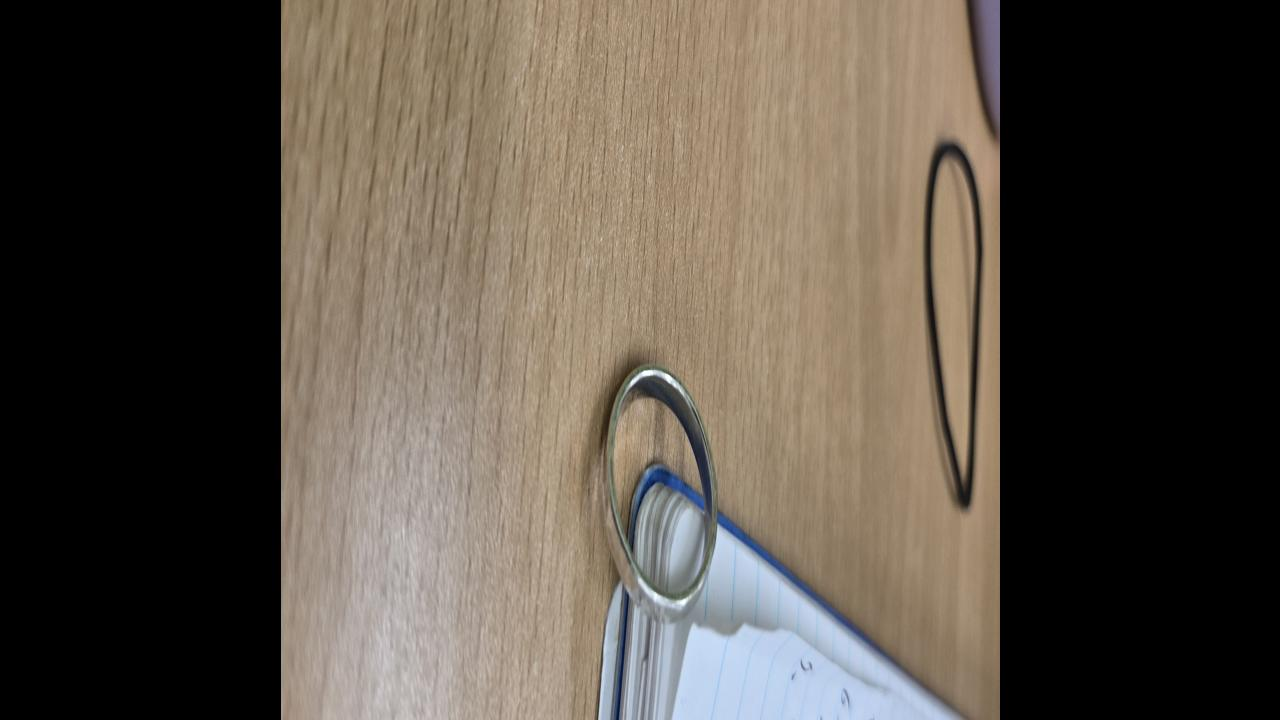ring: (597, 364, 718, 628)
